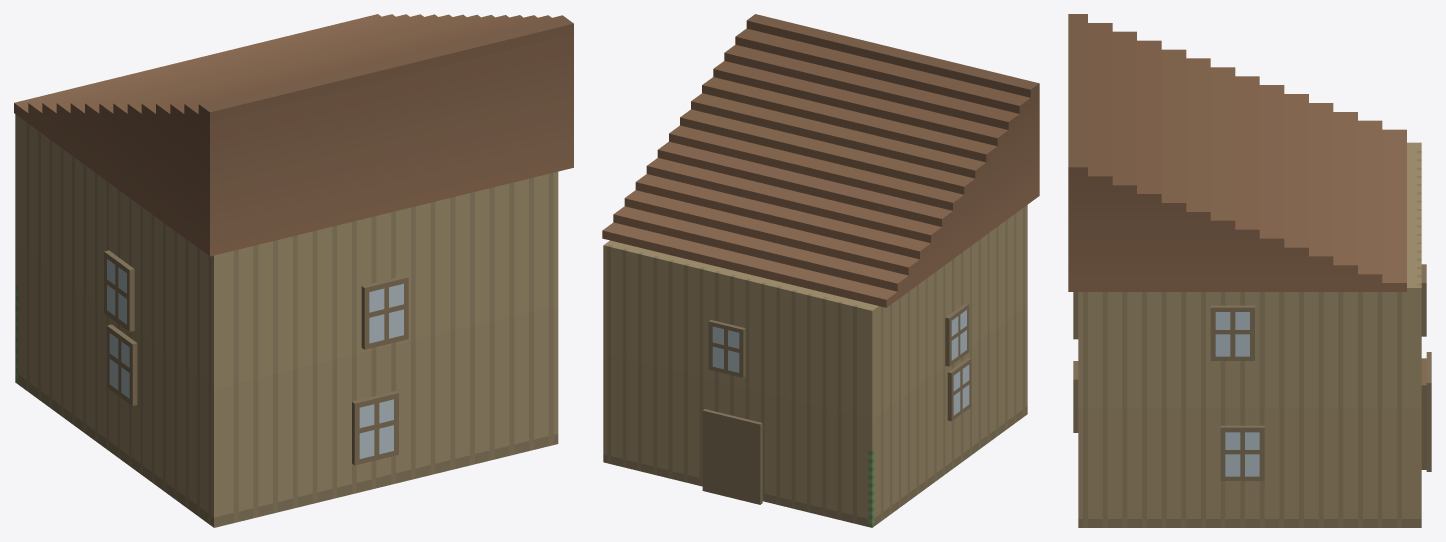
Rendered from molino_01.glb.
The picture shows the model from 3 angles, left to right: view 1: azimuth 30°, elevation 25°; view 2: azimuth 150°, elevation 25°; view 3: azimuth 270°, elevation 25°; orthographic projection. The views are drawn at different scales.
Visible parts, largest first — view 1: molino_01; view 2: molino_01; view 3: molino_01.
Boxes of the visible parts, x1,y1,x2,y2 form: molino_01: (14, 14, 573, 527); molino_01: (602, 14, 1039, 527); molino_01: (1068, 14, 1431, 527).
Size of the model in its own units: 7.4 by 8.2 by 7.4.
